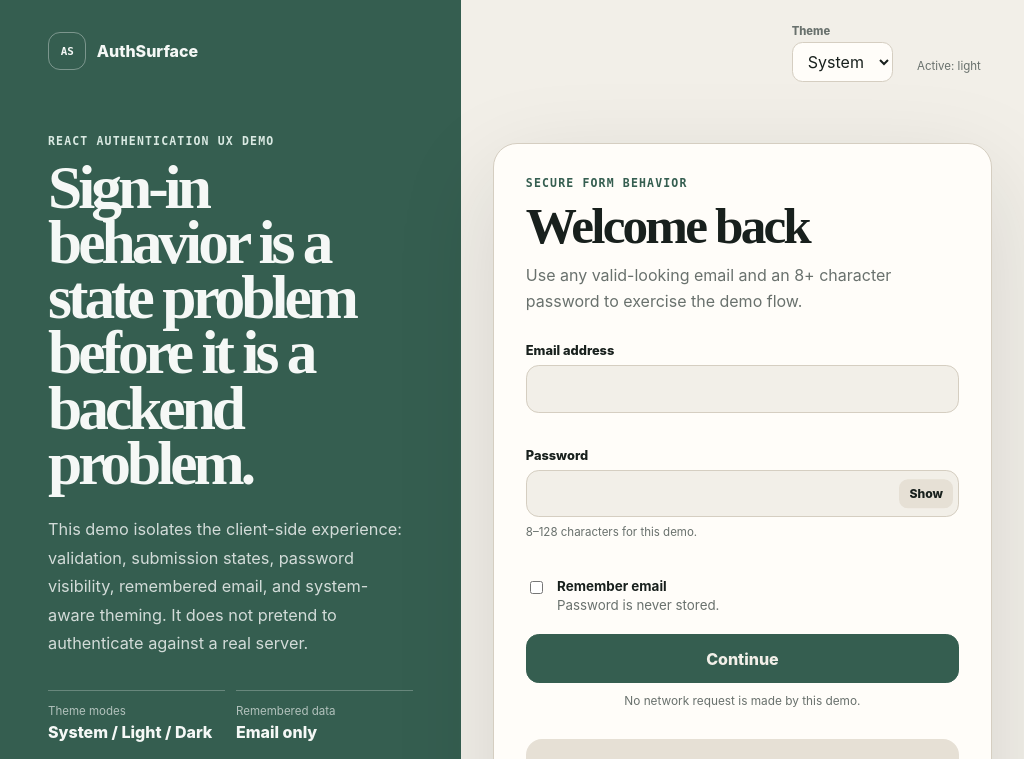
AuthSurface › shows deterministic validation feedback
What coordinates should you click on to do the following:
click the button "Continue"
I would click on:
 (742, 659)
Its box is [526, 634, 959, 683].
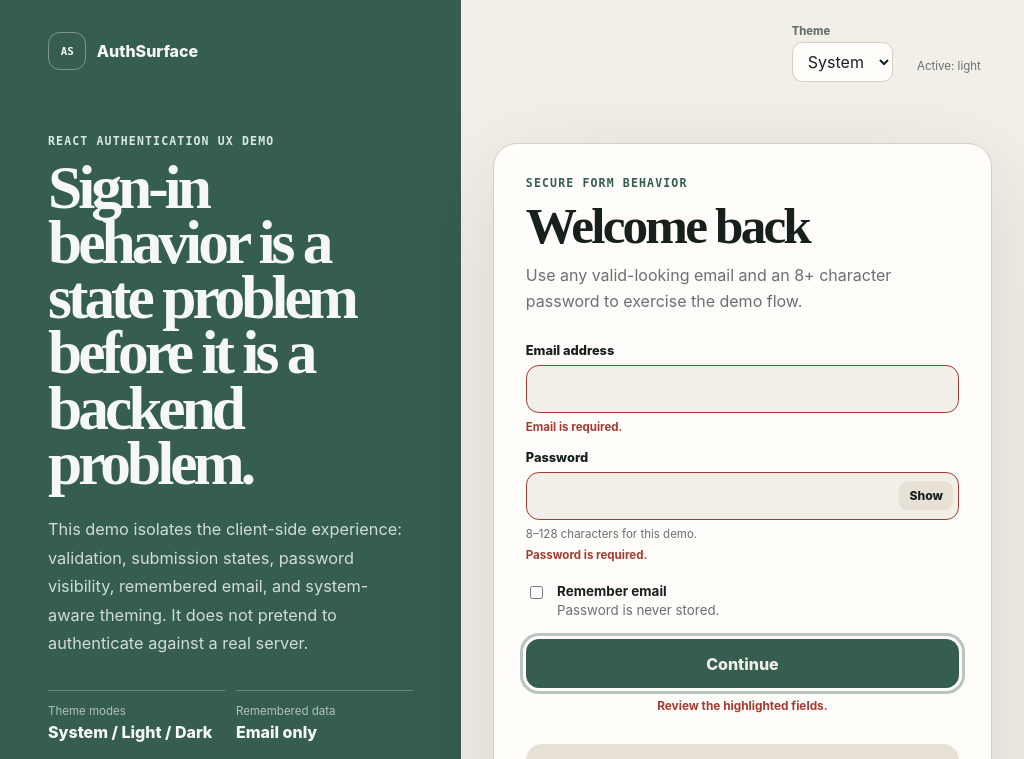
Expected: the text "Email is required." is shown, [526, 420, 622, 434]
Expected: the text "Password is required." is shown, [526, 548, 647, 562]
Expected: the text "Review the highlighted fields." is shown, [657, 699, 828, 713]
